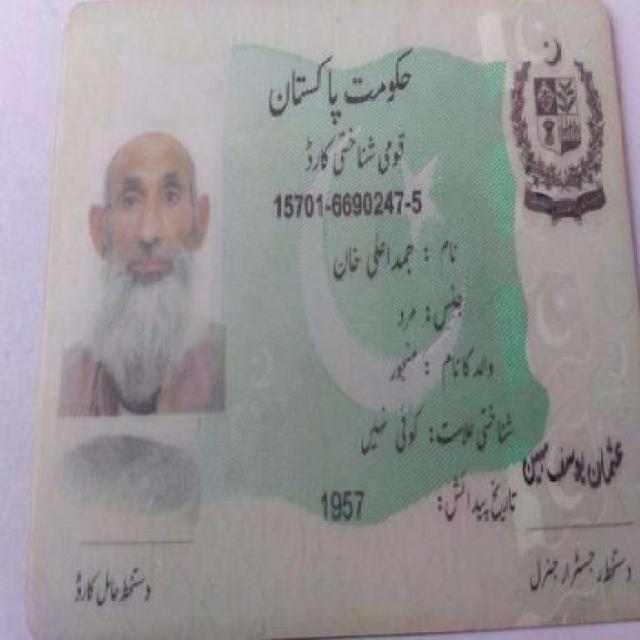Front: (37, 8, 637, 628)
